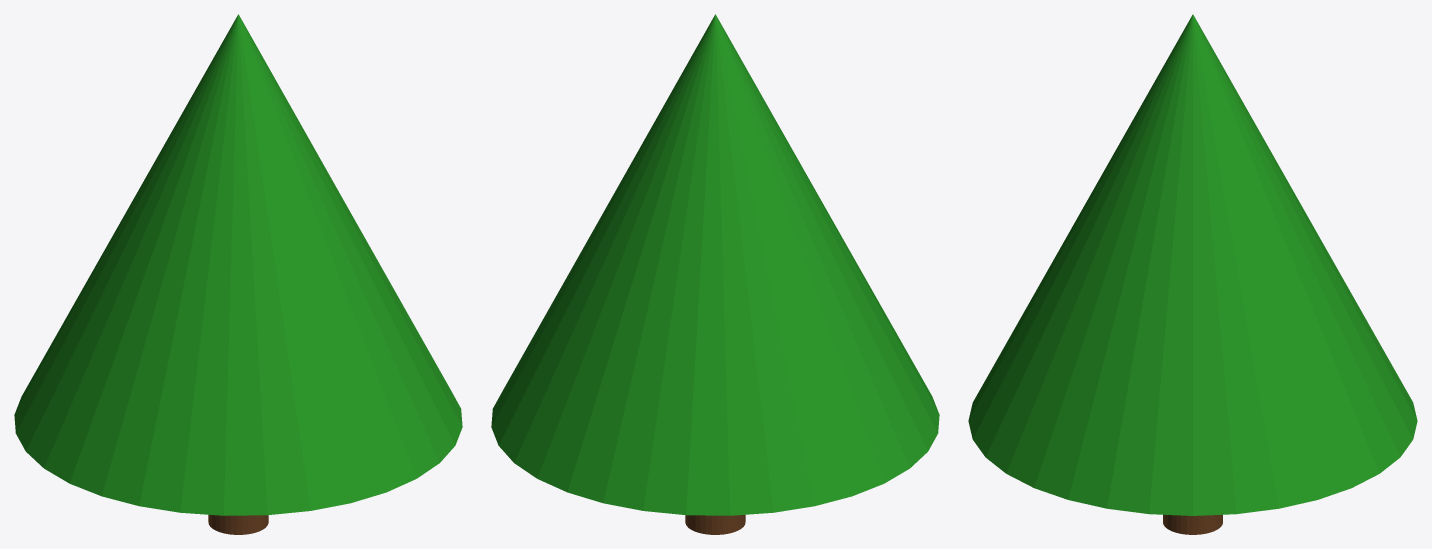
The model's file is pine_tree.glb.
3 renders of one model, left to right at view 1: azimuth 30°, elevation 25°; view 2: azimuth 150°, elevation 25°; view 3: azimuth 270°, elevation 25°, orthographic.
Visible parts, largest first — view 1: Cone, Cylinder; view 2: Cone, Cylinder; view 3: Cone, Cylinder.
Part boxes in pixels (box(x1,y1,x2,y2)): Cone: box(14, 14, 462, 515); Cylinder: box(208, 514, 268, 534); Cone: box(491, 14, 939, 515); Cylinder: box(685, 514, 745, 534); Cone: box(968, 14, 1417, 515); Cylinder: box(1163, 514, 1222, 534).
Bounding box in the file's own units: 6 × 7.49 × 6.
